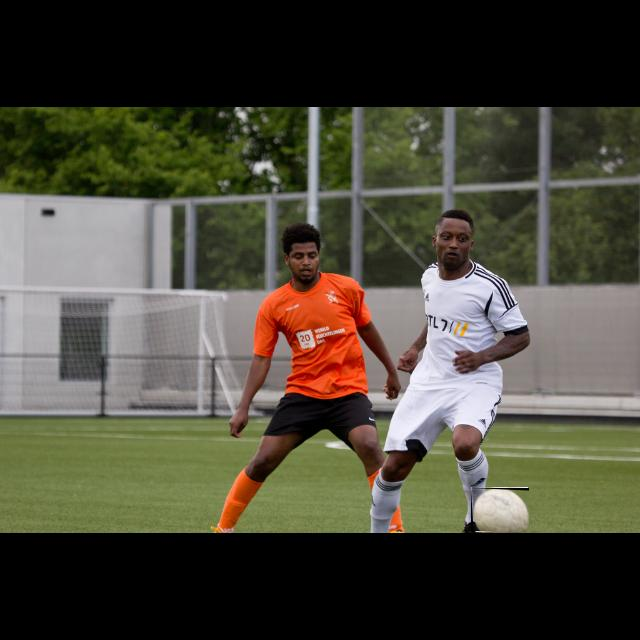Football: (471, 488, 529, 532)
